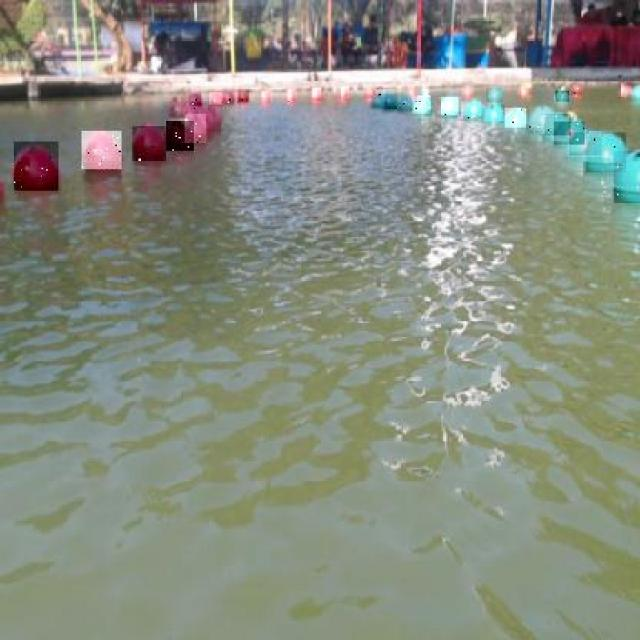green_ball: (571, 133, 626, 172), (614, 150, 640, 205), (528, 106, 556, 138), (553, 122, 585, 144), (543, 113, 570, 136), (503, 109, 528, 130), (440, 96, 462, 119), (462, 100, 482, 122), (374, 90, 393, 112), (411, 95, 430, 116), (487, 102, 502, 127), (396, 96, 414, 113), (553, 89, 570, 104), (385, 93, 401, 108), (486, 87, 503, 101), (632, 85, 640, 100), (421, 85, 429, 96)
red_ball: (13, 142, 57, 189), (82, 132, 123, 172), (132, 124, 165, 159), (167, 120, 195, 152), (187, 114, 207, 144), (195, 106, 219, 131), (170, 96, 189, 117), (207, 103, 221, 129), (181, 105, 194, 122), (188, 92, 200, 107), (190, 105, 201, 121), (234, 90, 248, 102), (571, 83, 582, 98), (210, 94, 222, 105), (221, 92, 233, 103), (463, 86, 473, 98), (519, 85, 528, 98), (338, 87, 348, 98), (312, 89, 322, 99), (408, 86, 418, 96), (261, 88, 269, 99), (285, 88, 295, 96), (366, 86, 373, 97)
